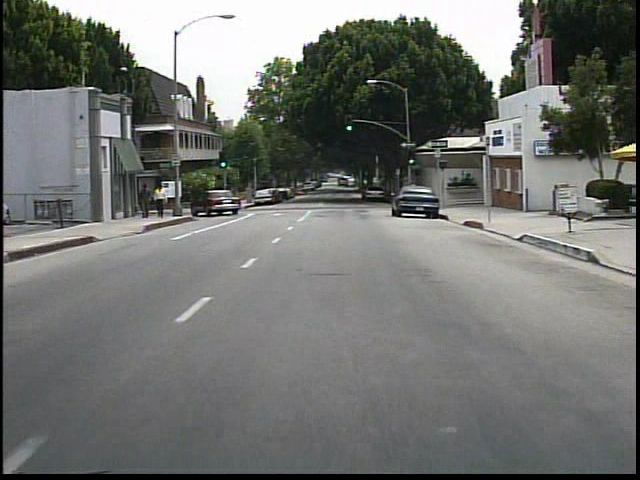person: (142, 182, 158, 219), (155, 183, 170, 219)
